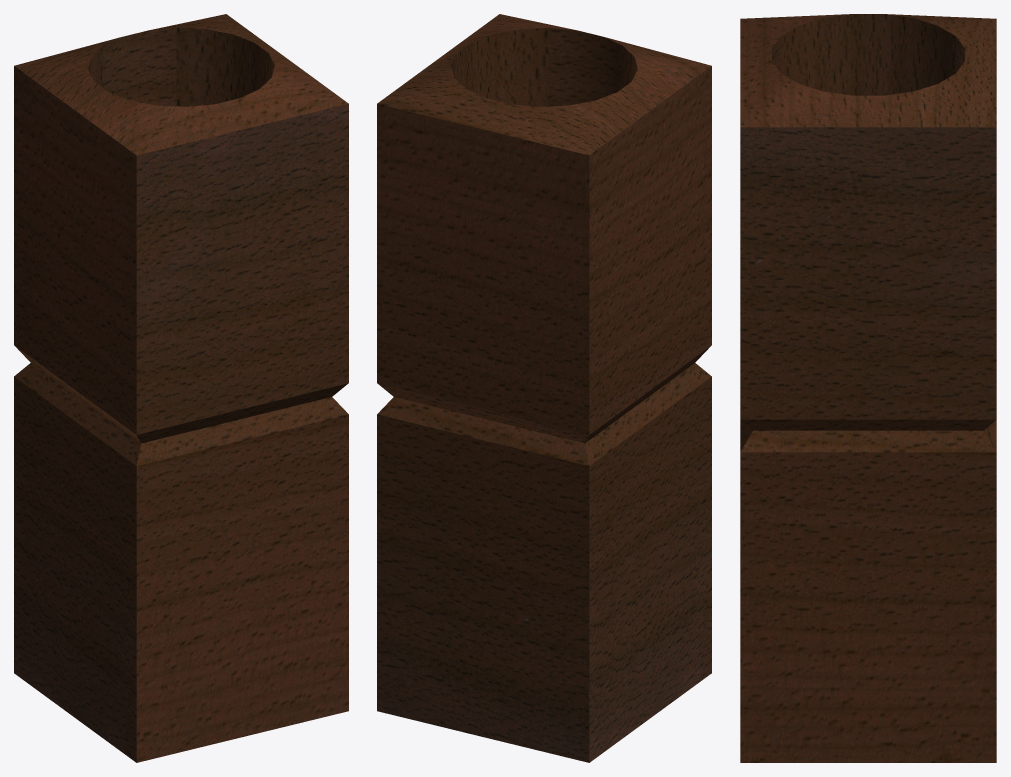
File: Koma_B_Lo_C2.fbx
3 views of the same model, side by side, from view 1: azimuth 30°, elevation 25°; view 2: azimuth 150°, elevation 25°; view 3: azimuth 270°, elevation 25° (orthographic). The views are drawn at different scales.
Parts seen in each view (by area): view 1: Koma_B_Lo_C2; view 2: Koma_B_Lo_C2; view 3: Koma_B_Lo_C2.
Part boxes in pixels (x1=…): Koma_B_Lo_C2: x1=14, y1=14, x2=348, y2=762; Koma_B_Lo_C2: x1=377, y1=14, x2=711, y2=762; Koma_B_Lo_C2: x1=740, y1=14, x2=996, y2=762.
Size of the model in its own units: 1.28 by 3.6 by 1.28.
1 material, 1 textured.
